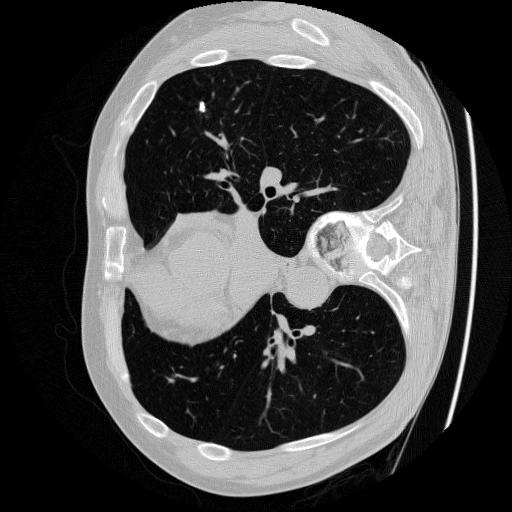nodule: (195, 99, 211, 115)
